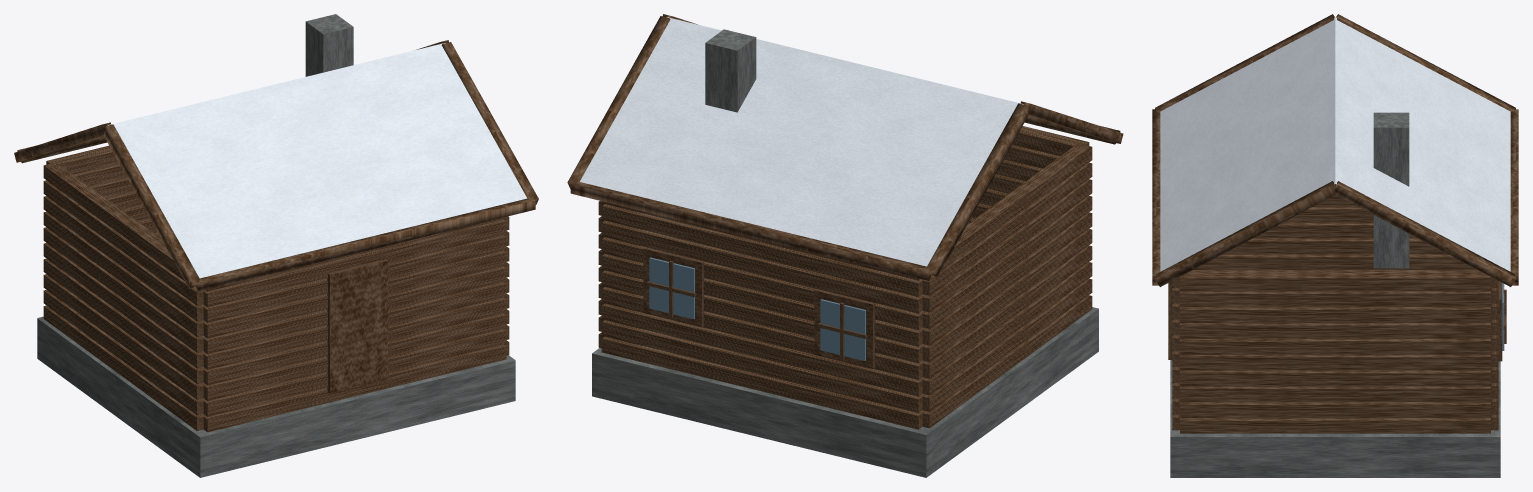
The model's file is sauna.obj.
3 renders of one model, left to right at view 1: azimuth 30°, elevation 25°; view 2: azimuth 150°, elevation 25°; view 3: azimuth 270°, elevation 25°, orthographic. The views are drawn at different scales.
Parts seen in each view (by area): view 1: sauna; view 2: sauna; view 3: sauna.
Boxes of the visible parts, x1,y1,x2,y2 form: sauna: (14, 14, 538, 477); sauna: (567, 14, 1123, 477); sauna: (1152, 14, 1518, 477).
Size of the model in its own units: 6.26 by 5.45 by 5.66.
Materials: 9 (8 with a texture image).
